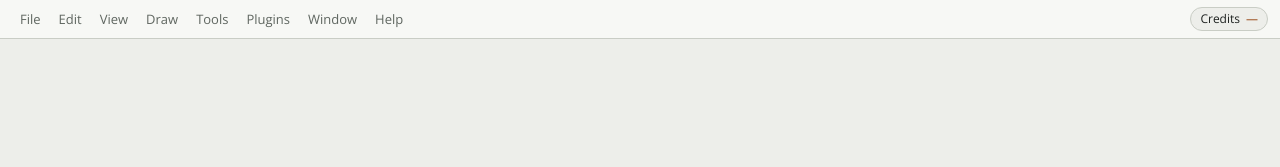
Test: TopBar submenus › a click without pointing first (keyboard, touch) opens it
Click the button "Plugins": [268, 19] box x1=238 y1=6 x2=298 y2=32
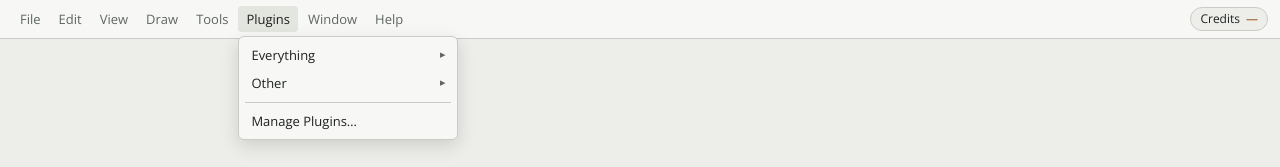
Check: the menu item "Ask Me" is not shown
Click the menu item "Everything ▸": [348, 55] box x1=243 y1=41 x2=453 y2=69
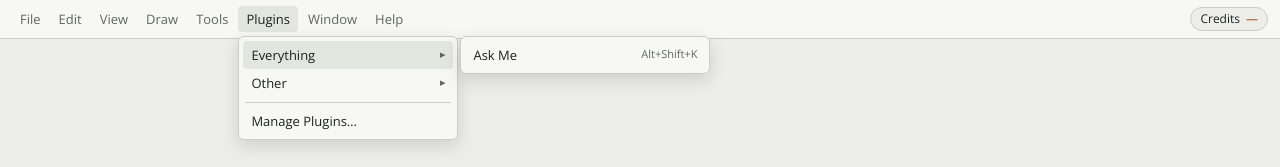
Check: the menu item "Ask Me Alt+Shift+K" is shown, box x1=465 y1=41 x2=705 y2=69
